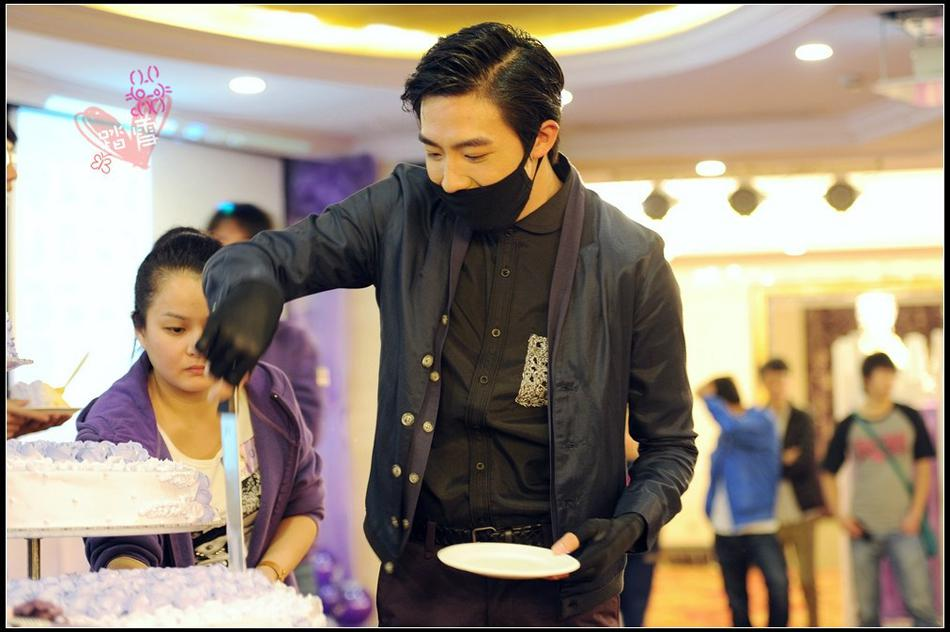NONE: (153, 305, 230, 382)
WRONG: (417, 121, 526, 230)
